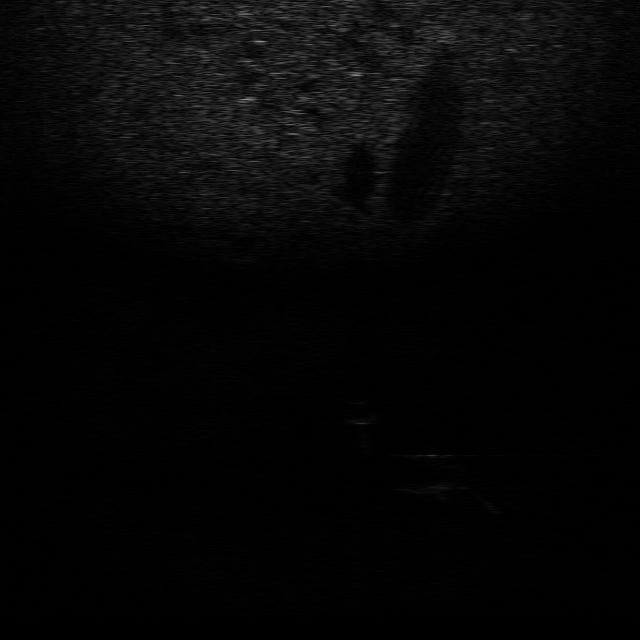ball: (335, 396, 383, 428)
tyre: (385, 448, 465, 495)
